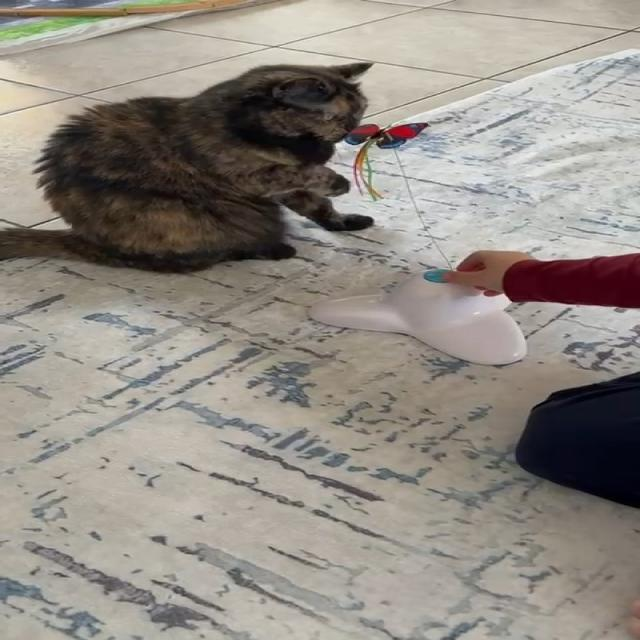authorized: (0, 60, 376, 274)
